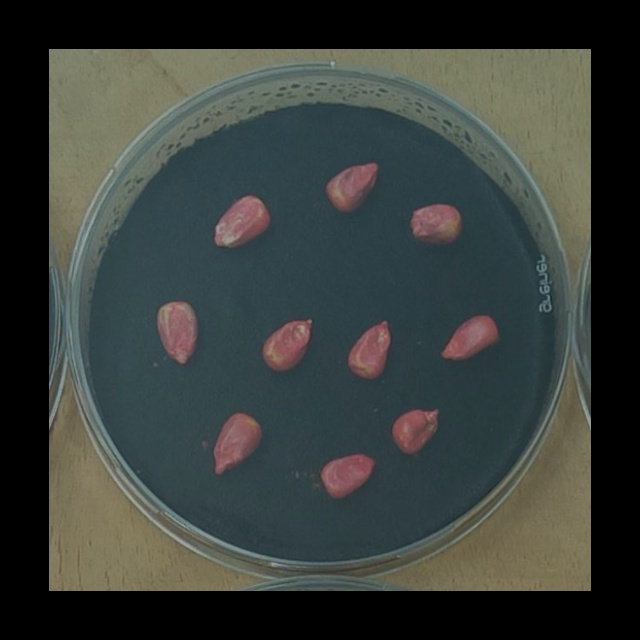Zea mays: (205, 189, 277, 255), (206, 407, 268, 480), (319, 155, 385, 220), (152, 294, 205, 373), (435, 308, 505, 367), (257, 314, 320, 379), (342, 314, 397, 387), (315, 447, 382, 506), (403, 198, 469, 253), (386, 402, 446, 462)
